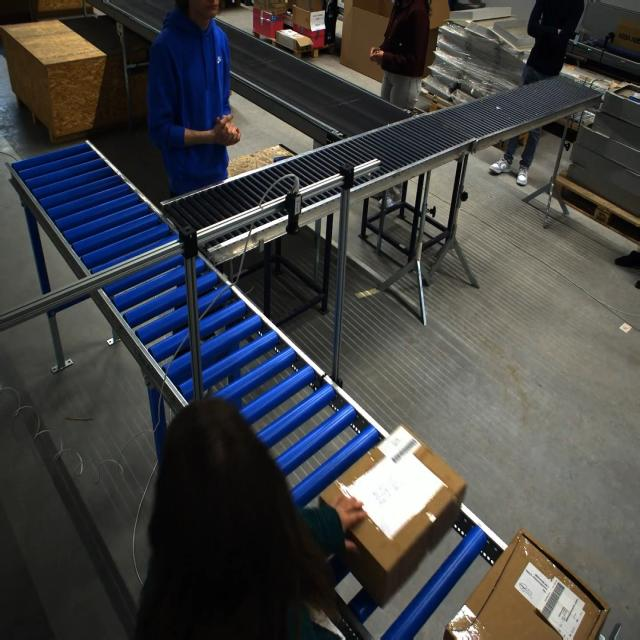box: (335, 439, 465, 609), (446, 526, 612, 640)
